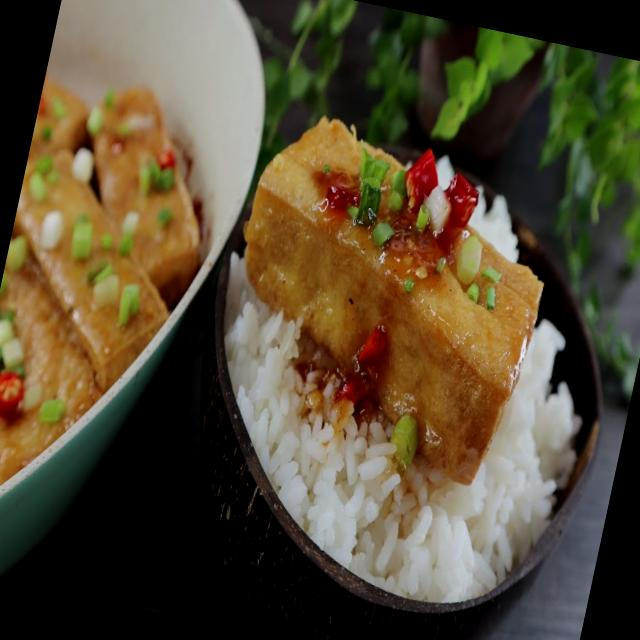com: (224, 254, 579, 602), (315, 257, 320, 266)
dau hu: (243, 118, 542, 482), (0, 77, 202, 483)
